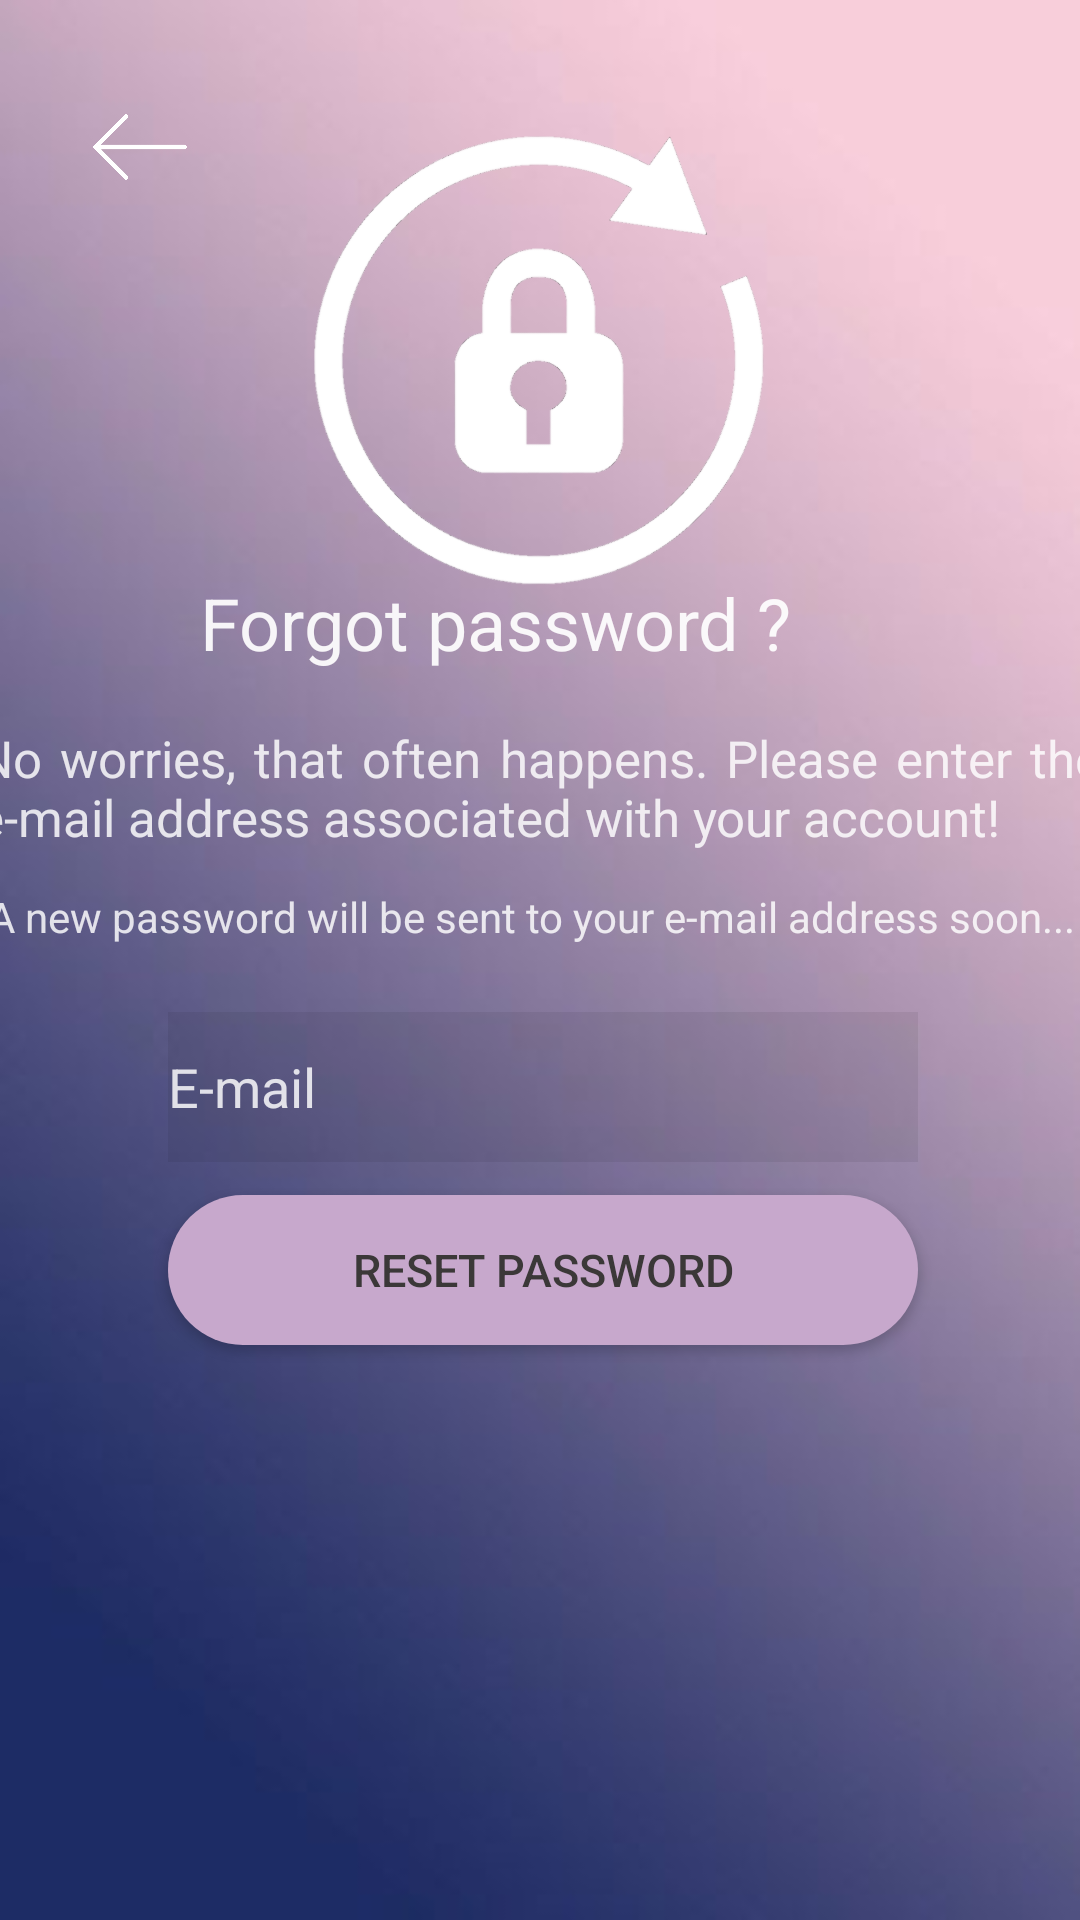

Screen size 1080w x 1920h. Icon name, then its box in pixels as (x1, y1, x2, y2):
login backwards: (93, 114, 187, 180)
